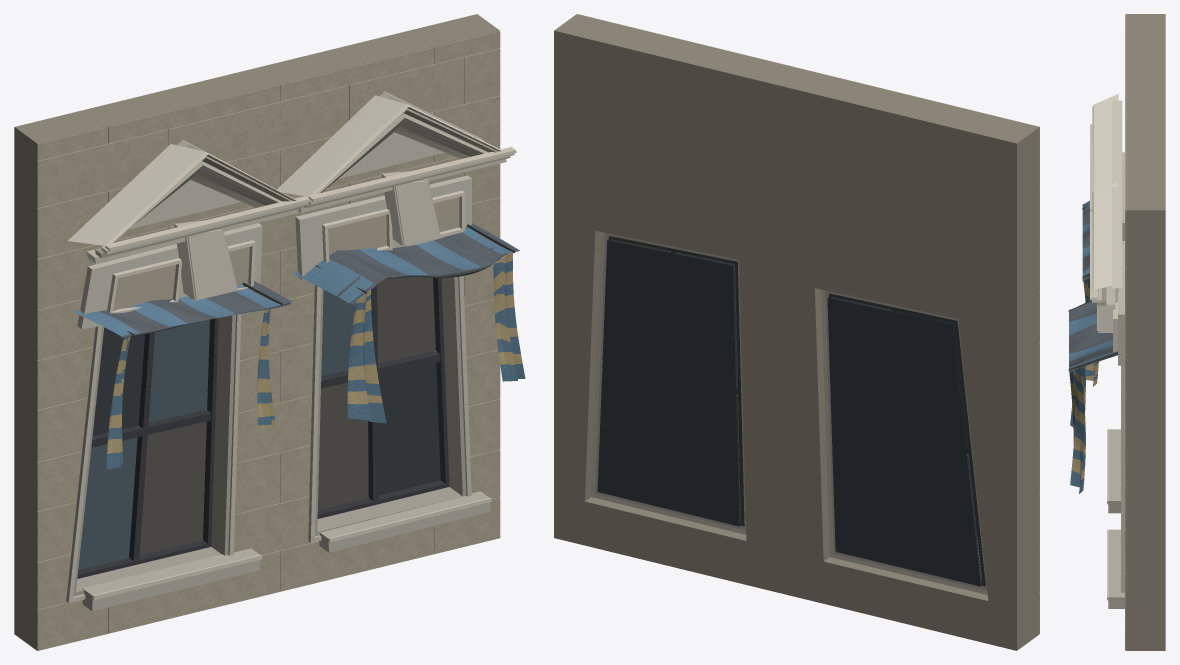
Rendered from huangpu-jiangxi-320-paired-pediment-windows-lod.glb.
3 views of the same model, side by side, from view 1: azimuth 30°, elevation 25°; view 2: azimuth 150°, elevation 25°; view 3: azimuth 270°, elevation 25° (orthographic). The views are drawn at different scales.
Visible parts, largest first — view 1: 道达大楼江西中路立面双三角窗楣与托座; view 2: 道达大楼江西中路立面双三角窗楣与托座; view 3: 道达大楼江西中路立面双三角窗楣与托座.
Part boxes in pixels (<box>): 道达大楼江西中路立面双三角窗楣与托座: <box>14,14,525,650</box>; 道达大楼江西中路立面双三角窗楣与托座: <box>554,14,1039,650</box>; 道达大楼江西中路立面双三角窗楣与托座: <box>1068,14,1165,650</box>.
Size of the model in its own units: 4.2 by 4.4 by 0.8794.
16 materials, 1 textured.
